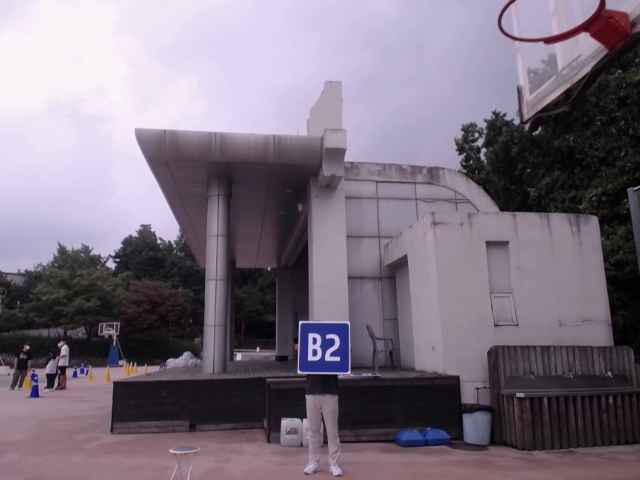delivery_b2: (298, 321, 351, 375)
